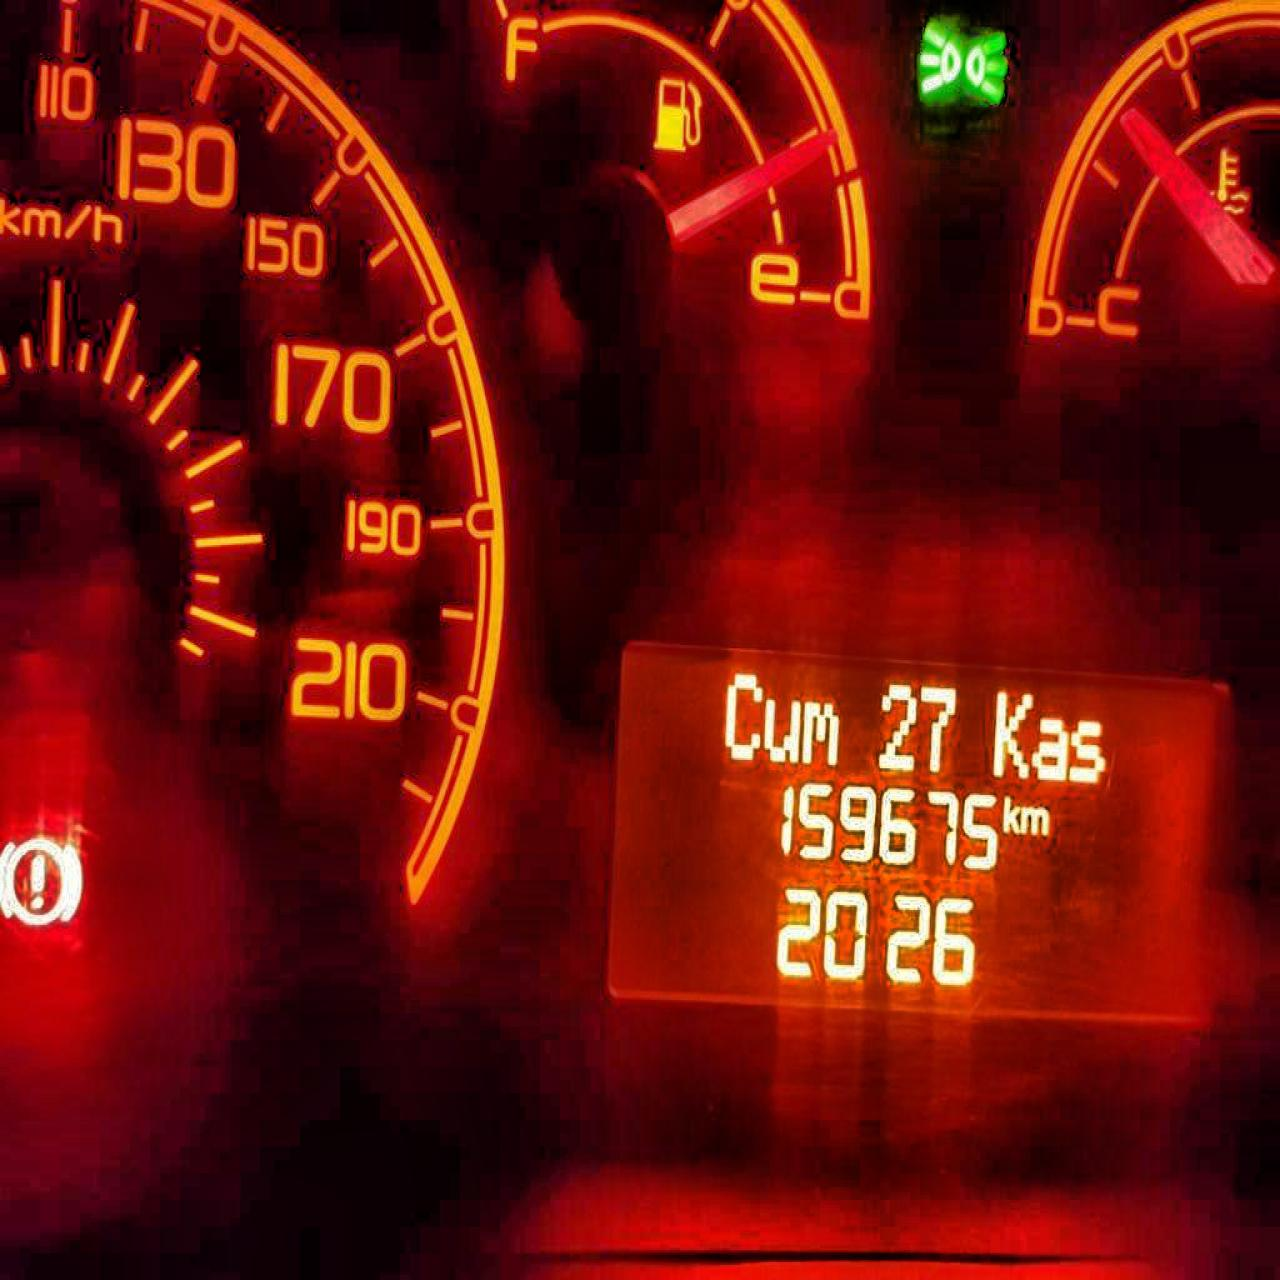0: (823, 888, 867, 980)
1: (779, 782, 795, 856)
2: (774, 885, 822, 979), (884, 892, 930, 986), (876, 681, 915, 771)
5: (795, 779, 835, 860), (961, 791, 999, 870)
6: (930, 896, 976, 985), (877, 784, 918, 863)
7: (919, 683, 956, 771), (925, 788, 960, 865)
9: (837, 782, 874, 862)
X: (992, 688, 1033, 778), (722, 670, 762, 760), (761, 696, 798, 763), (801, 700, 838, 767), (1067, 716, 1104, 783), (1030, 715, 1069, 779), (1017, 803, 1049, 837), (1000, 795, 1020, 835)
odometer: (601, 635, 1232, 1033)
